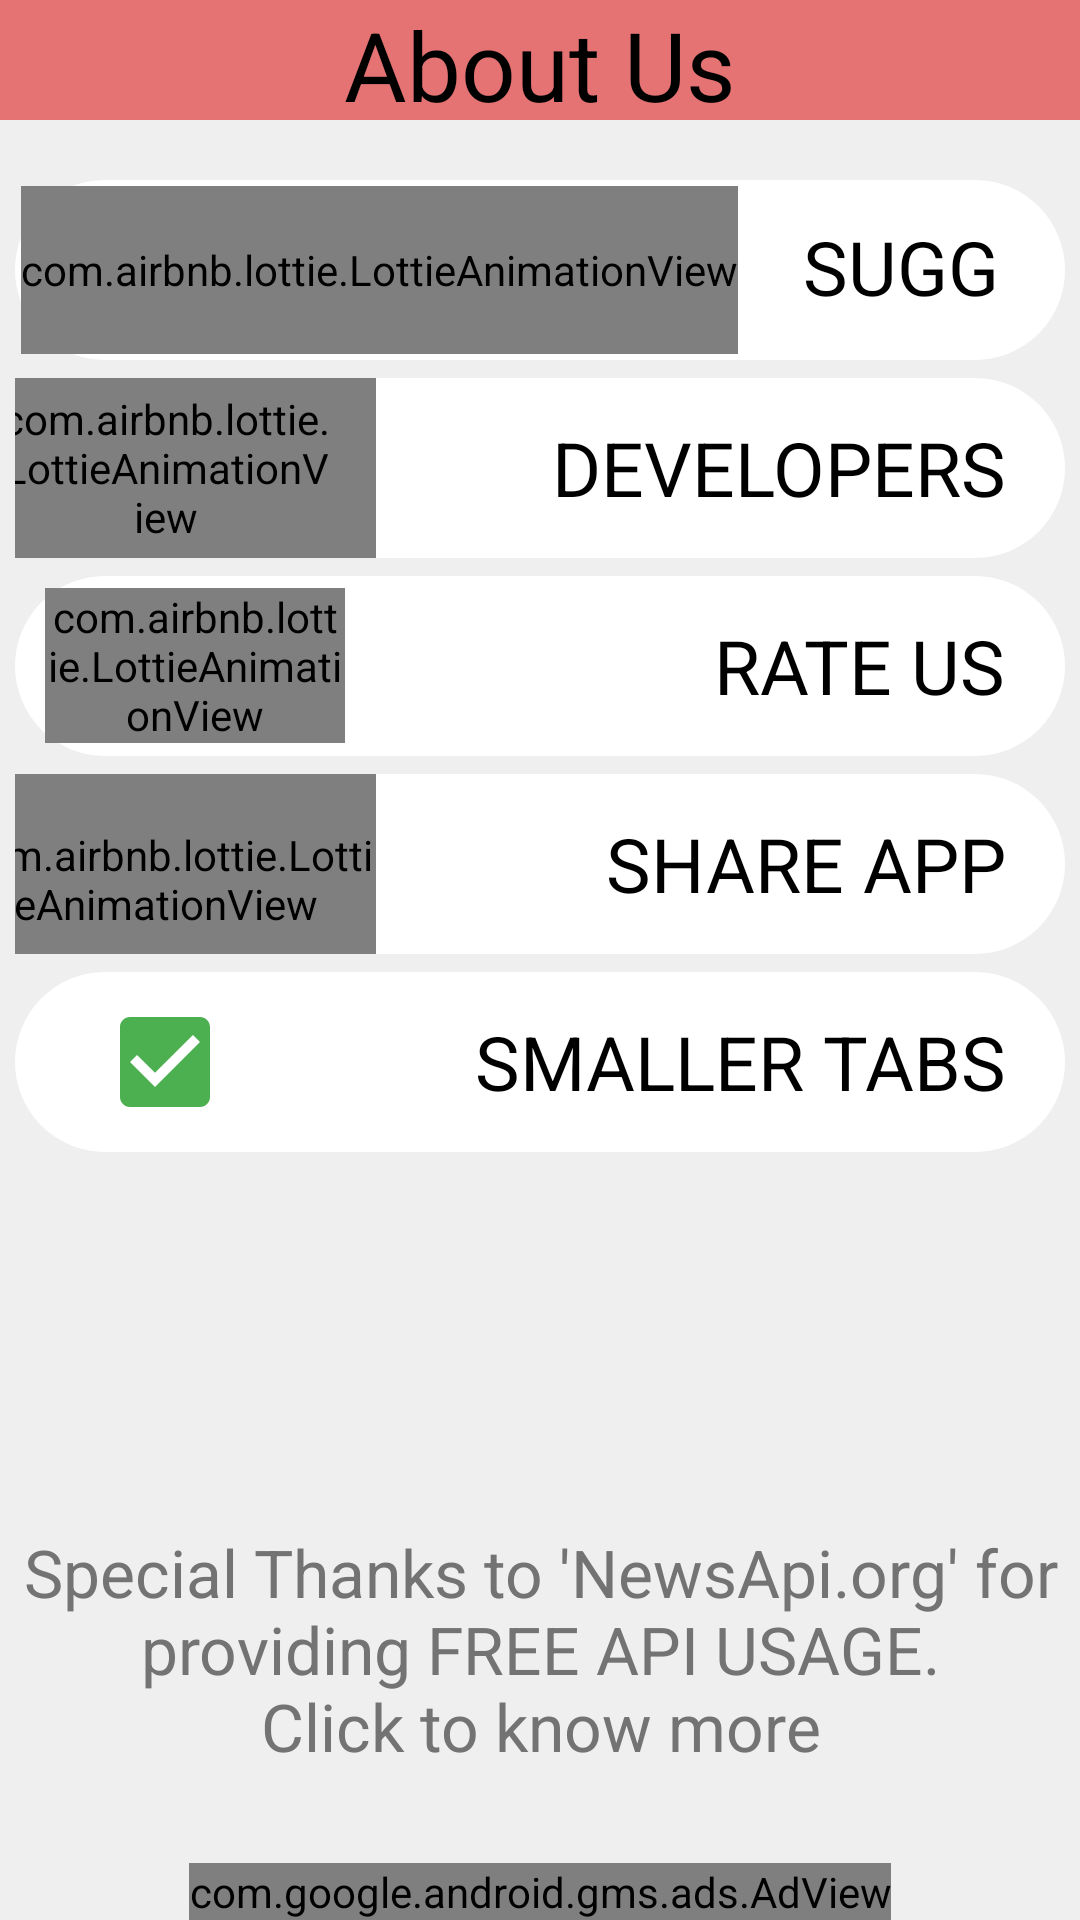

Icon bounding boxes for this 1080*1920 phone screenshot, format bbox=[x1, y1, x2, y2]:
check box: bbox=[120, 1017, 210, 1107]
